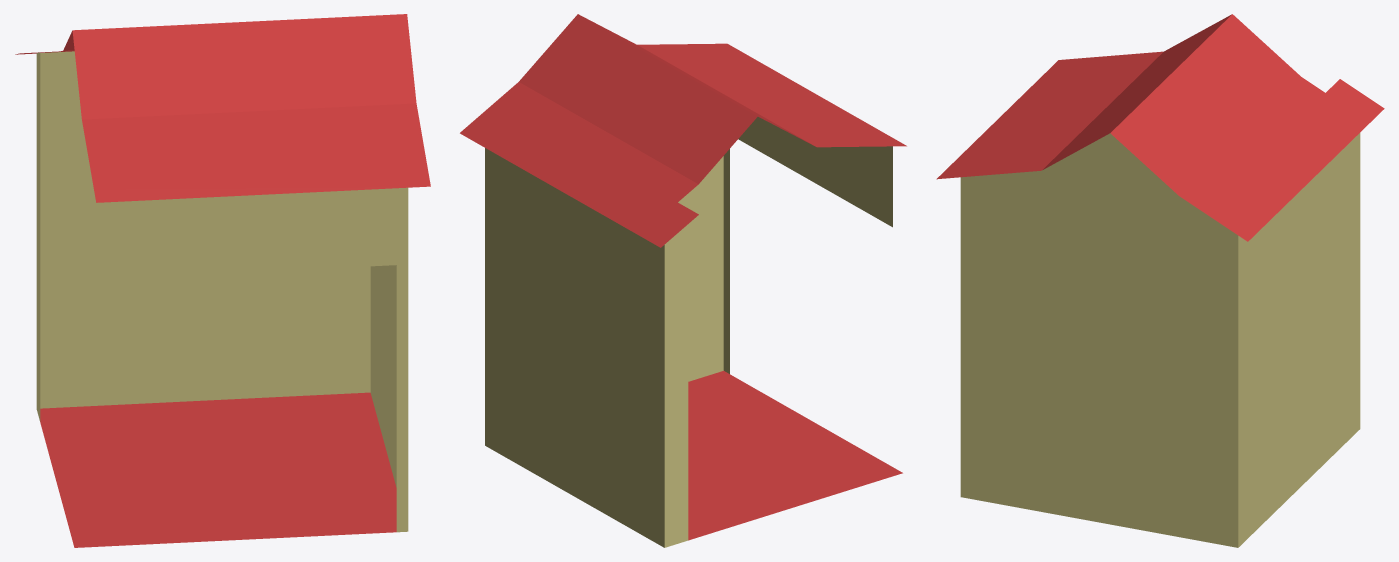
3 renders of one model, left to right at view 1: azimuth 30°, elevation 25°; view 2: azimuth 150°, elevation 25°; view 3: azimuth 270°, elevation 25°, orthographic. The views are drawn at different scales.
Bounding box in the file's own units: 11.51 × 12.11 × 11.91.
